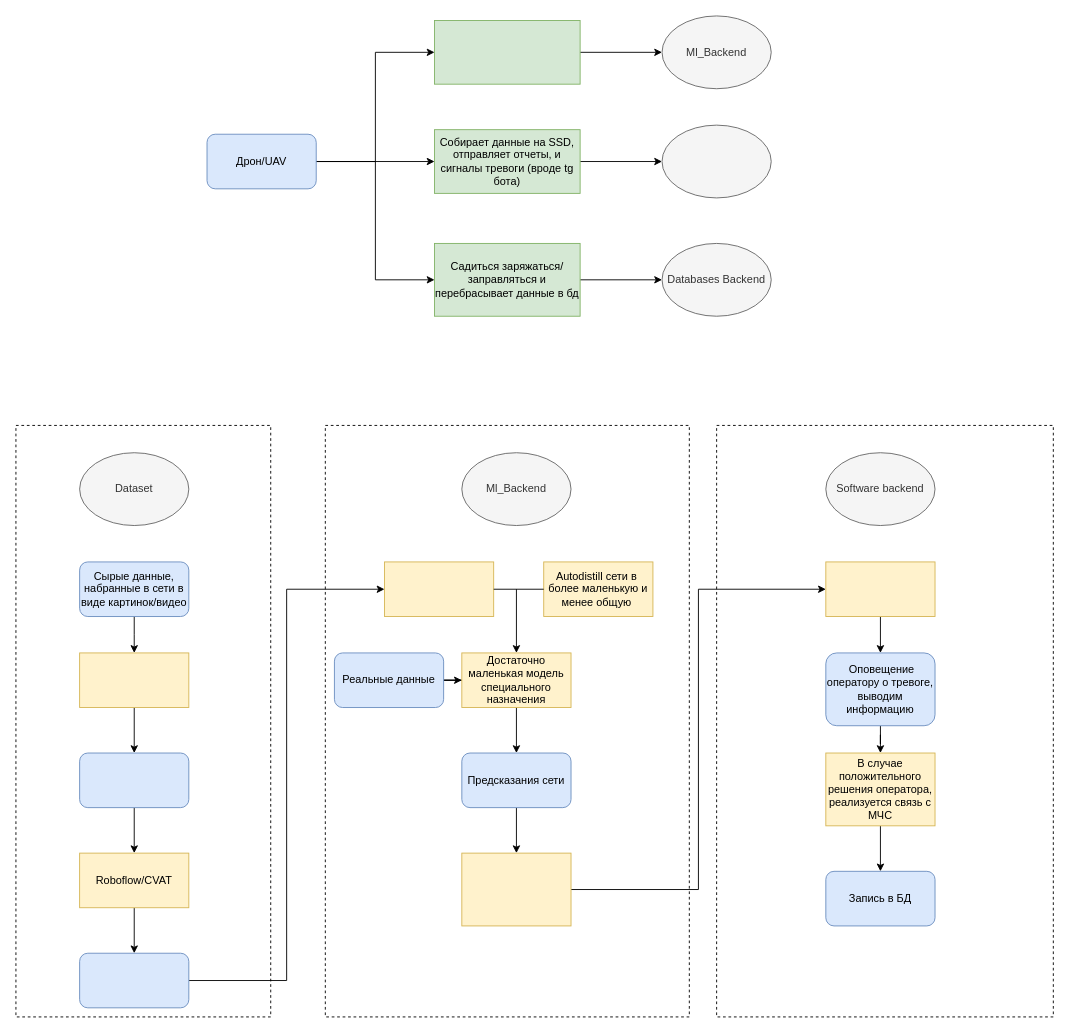
This 1069x1033 diagram has some shape labels left out. Each missing label, with the box of its shape:
Back/Front: (661, 124, 771, 198)
Grounding Dino/Detic/Переобученный DETR/RT-DETR: (79, 652, 189, 708)
Классифицирует/детектит пожары: (434, 20, 580, 84)
Парсер сообщения (принимаем json с картинкой кордами и тд): (825, 561, 935, 617)
Полуразмеченные данные: (79, 752, 189, 808)
Предобученные нейронные сети детекторы (YOLO, RT-DETR, DETR): (384, 561, 494, 617)
Размеченные данные (фото и видео): (79, 952, 189, 1008)
Скрипт передачи сообщения оператору (фото, корды, размер пожара): (461, 852, 571, 926)
